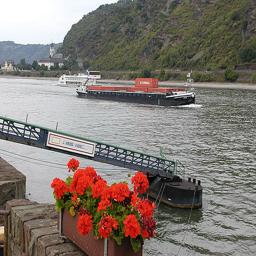boat: (139, 103, 256, 158), (108, 108, 190, 127)
pottedplant: (99, 184, 256, 256)
